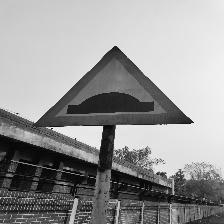Speed-breaker: (30, 40, 193, 125)
